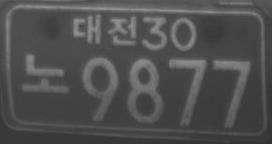0: (169, 15, 198, 52)
3: (141, 15, 168, 51)
7: (210, 58, 252, 129), (167, 57, 208, 127)
8: (124, 57, 165, 125)
9: (80, 55, 120, 123)
노: (19, 53, 70, 96)
대전_O: (71, 13, 139, 47)
